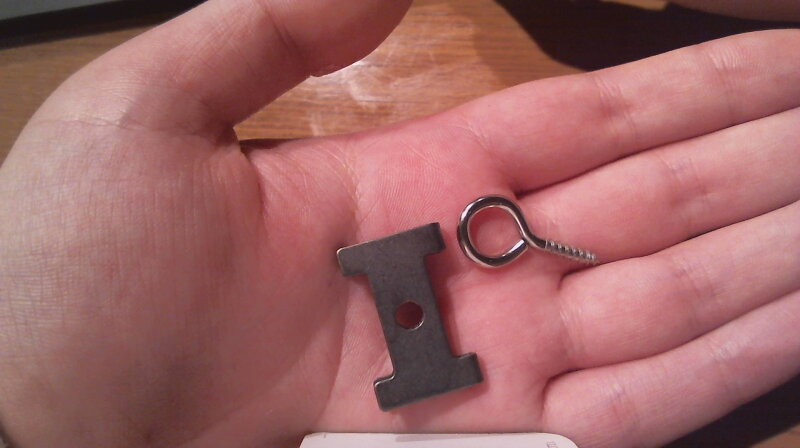O001: (455, 191, 601, 275)
O002: (330, 220, 485, 406)
